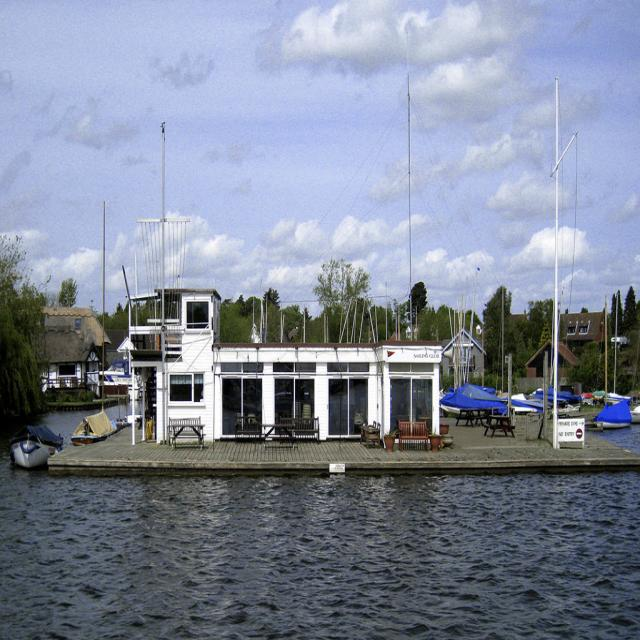Boat: (70, 200, 118, 446), (5, 420, 64, 470), (438, 381, 507, 419), (596, 392, 629, 433), (530, 384, 565, 406), (510, 399, 540, 418), (115, 408, 143, 424), (560, 391, 582, 406), (582, 390, 594, 410)
